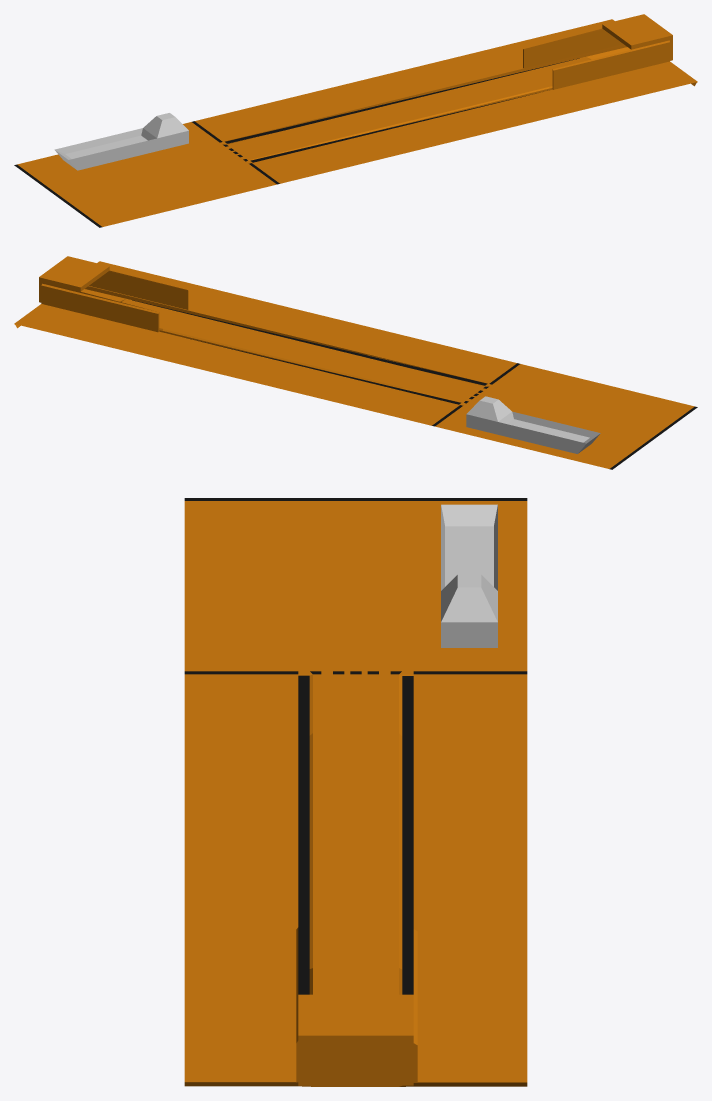
The model's file is bowling_area.obj.
3 views of the same model, one above another, from view 1: azimuth 30°, elevation 25°; view 2: azimuth 150°, elevation 25°; view 3: azimuth 270°, elevation 25° (orthographic). The views are drawn at different scales.
Parts seen in each view (by area): view 1: Cube, Cube.001; view 2: Cube, Cube.001; view 3: Cube, Cube.001.
Boxes of the visible parts, <box> form: Cube: <box>14,14,697,227</box>; Cube.001: <box>54,113,188,170</box>; Cube: <box>14,256,697,469</box>; Cube.001: <box>466,396,600,453</box>; Cube: <box>184,498,527,1086</box>; Cube.001: <box>441,504,497,647</box>.
Bounding box in the file's own units: 48.98 × 2.65 × 12.07.
